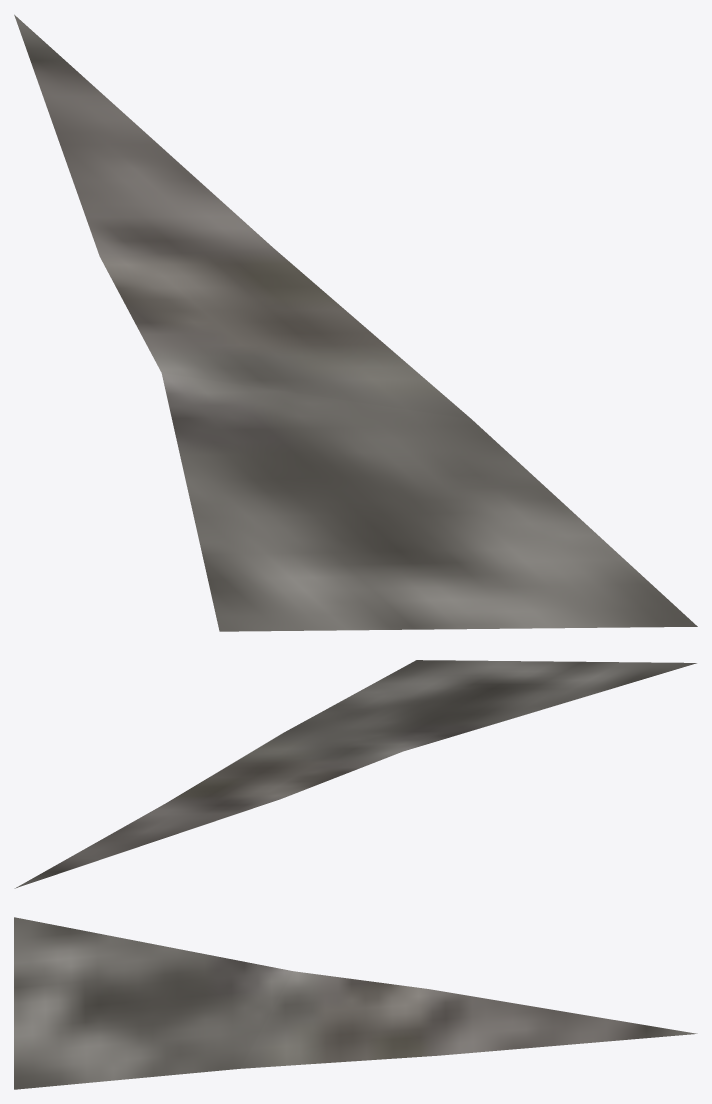
The picture shows the model from 3 angles, top to bottom: view 1: azimuth 30°, elevation 25°; view 2: azimuth 150°, elevation 25°; view 3: azimuth 270°, elevation 25°; orthographic projection. The views are drawn at different scales.
Size of the model in its own units: 0.0663 by 0.0148 by 0.1643.
1 material, 1 textured.
